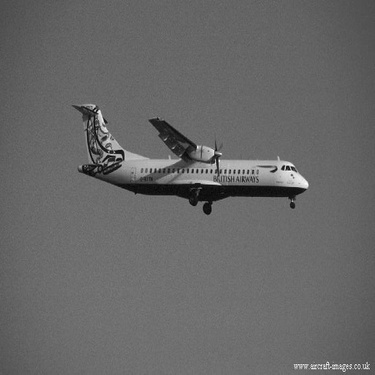airplane: (65, 96, 313, 218)
